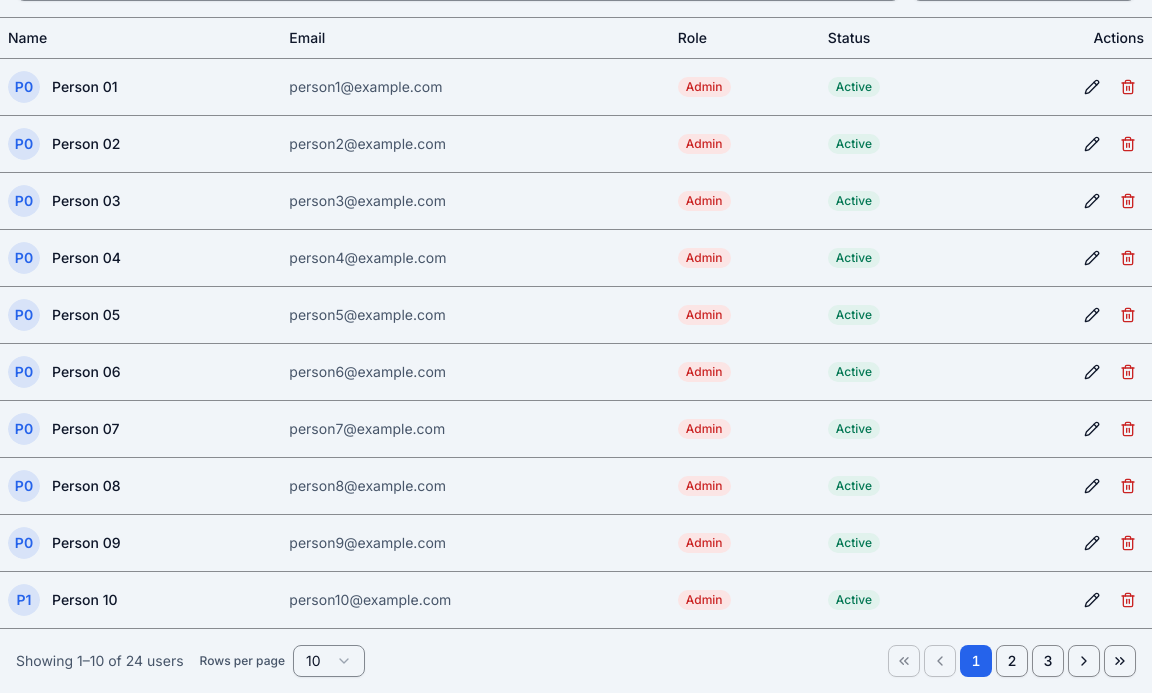
Test: <UserTable> › moves to the page it is asked for
This screenshot has width=1152, height=693.
(page scrolled)
Click the button named "Go to page 2": x=1012, y=660 [996,644,1028,676]
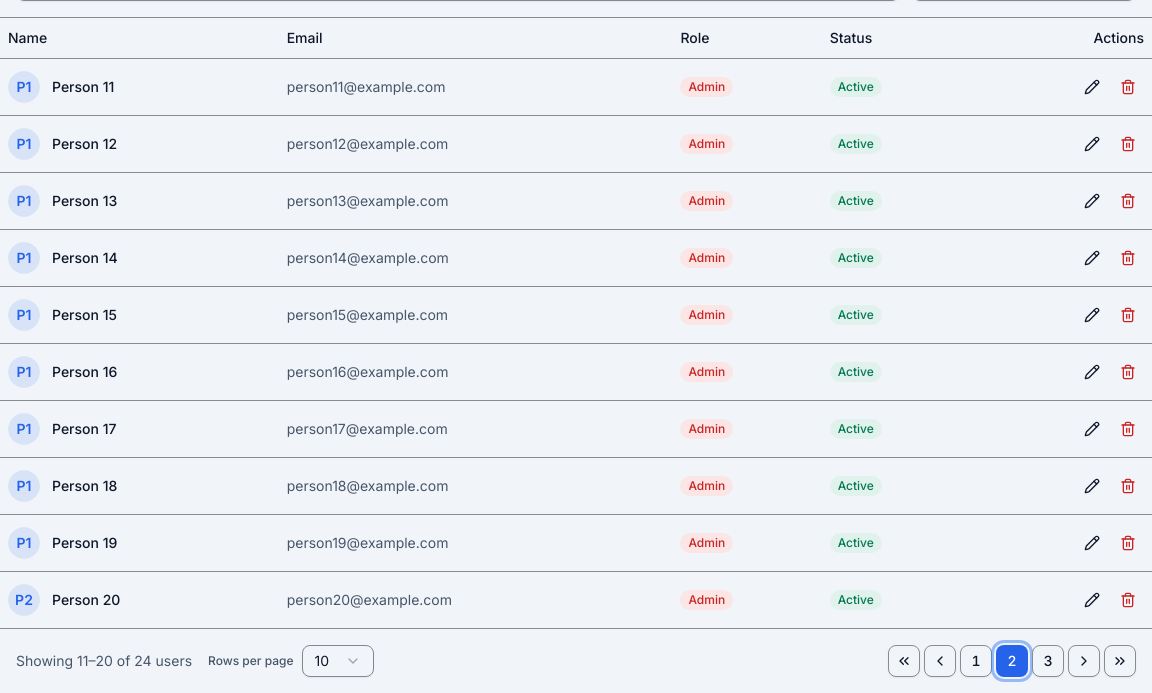
expect the text "Person 11" is shown: met, box [52,76,114,96]
expect the text "Person 01" is gone: met
